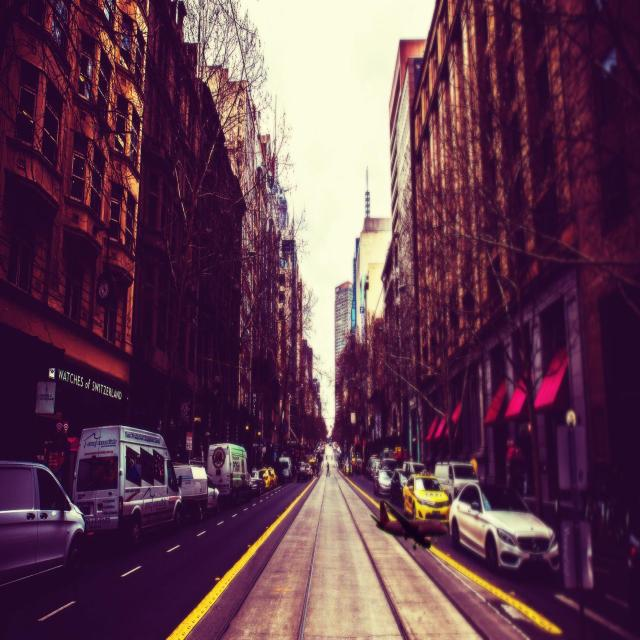airplane: (370, 500, 448, 552)
